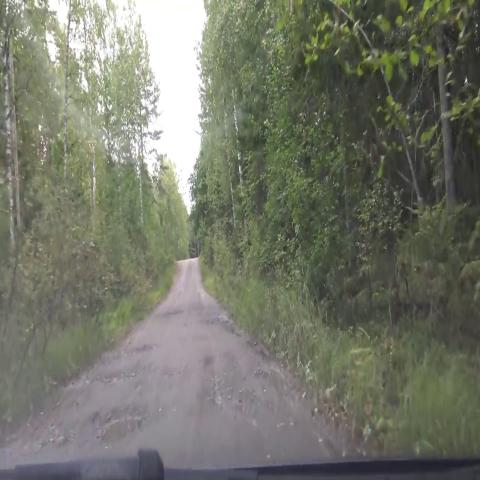pothole: (202, 375, 294, 444), (84, 402, 156, 445), (201, 306, 246, 347), (101, 367, 142, 393), (159, 298, 188, 324), (127, 337, 163, 357)
